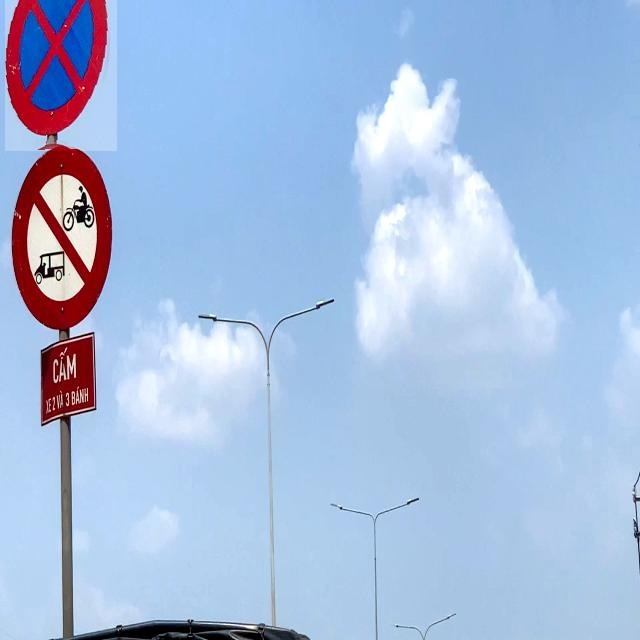bien_cam: (5, 0, 117, 151)
